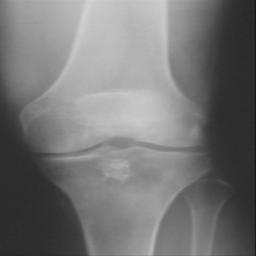cancer: (103, 157, 147, 186)
